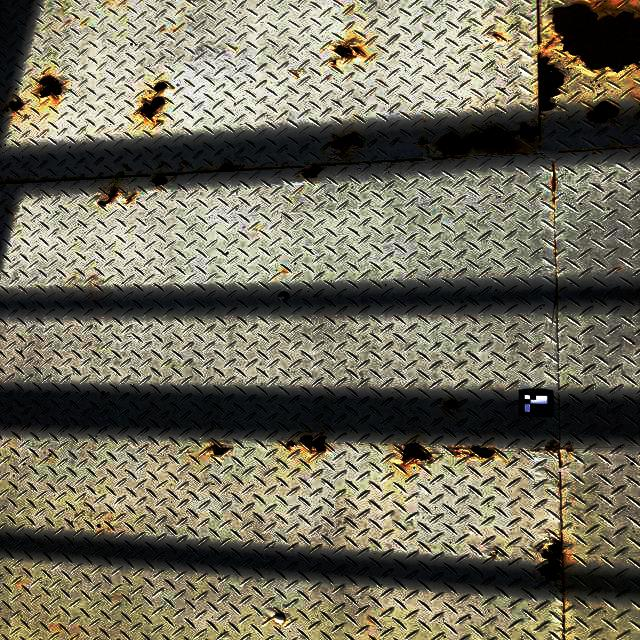Corrosion: (553, 3, 640, 75), (437, 125, 517, 154), (540, 55, 566, 111), (538, 537, 564, 582), (586, 100, 621, 124), (97, 180, 126, 206), (137, 96, 165, 121), (399, 441, 430, 462), (330, 132, 364, 151), (37, 74, 62, 97), (299, 434, 327, 454), (333, 43, 366, 58), (520, 122, 541, 142), (207, 441, 232, 457), (468, 445, 497, 458), (2, 94, 23, 111), (301, 165, 324, 179), (219, 161, 242, 171), (151, 174, 168, 186), (443, 398, 460, 410), (450, 446, 467, 456), (153, 81, 167, 92), (548, 442, 560, 452), (125, 193, 135, 204), (285, 440, 298, 448), (417, 139, 429, 145), (463, 452, 475, 458), (536, 546, 546, 553), (330, 59, 337, 66), (637, 105, 640, 118), (5, 208, 11, 214), (492, 34, 498, 37), (154, 121, 160, 122)
